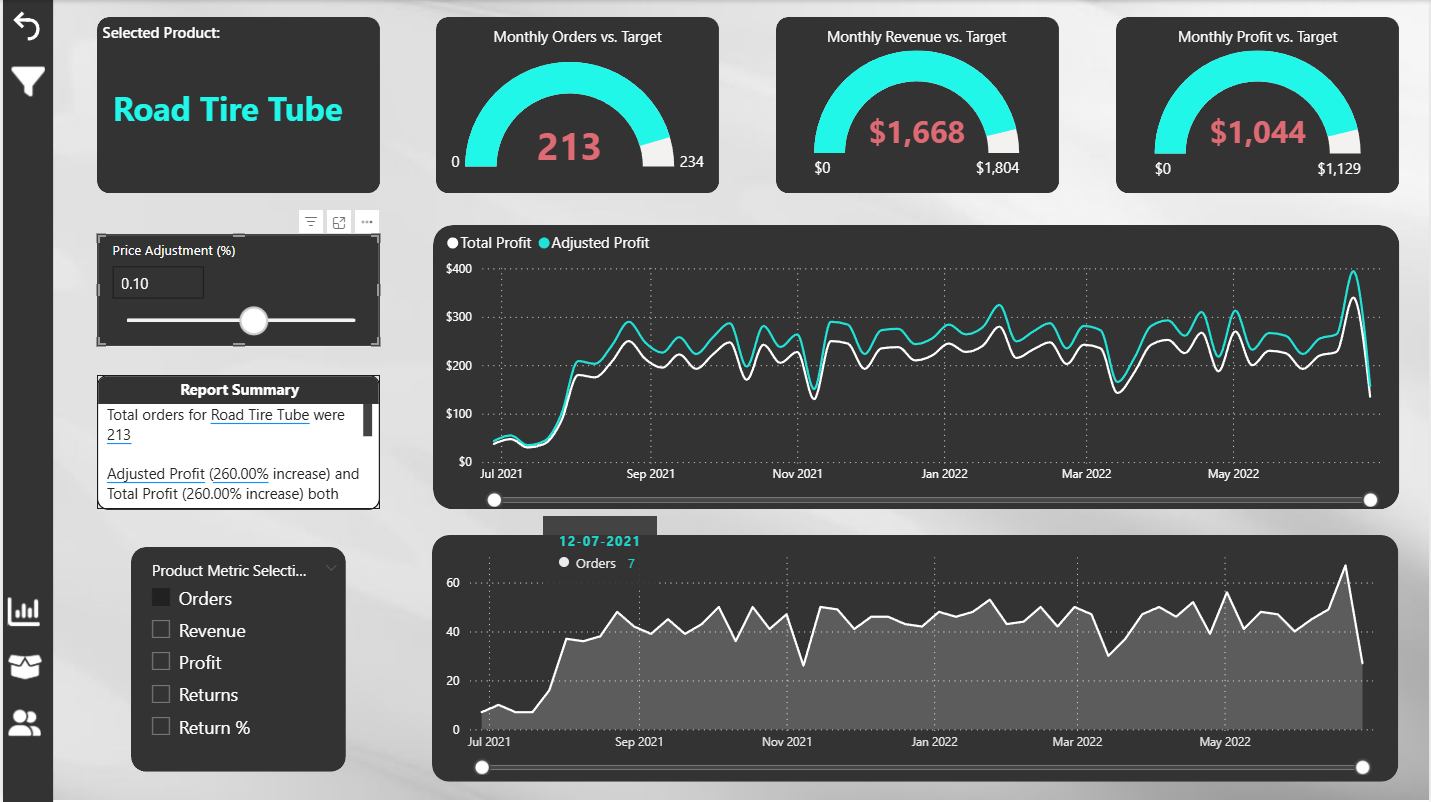

Layout of this report page (visuals, bound fields, positions):
{"tool":"powerbi","page":{"name":"Product Detail","canvas":[1280,720],"ordinal":1},"visuals":[{"type":"shape","box":[84.1,209.7,254.2,100.9],"z":0},{"type":"shape","box":[114.7,490.6,192.9,201.8],"z":2000},{"type":"shape","box":[384.8,480.7,867.5,221.6],"z":3000},{"type":"shape","box":[385.8,201.8,867.5,255.2],"z":4000},{"type":"shape","box":[694.1,14.8,254.2,158.3],"z":5000},{"type":"actionButton","box":[1,630.7,45.2,37.3],"z":5000,"group":"g1"},{"type":"shape","box":[389.1,14.8,254.2,158.3],"z":6000},{"type":"shape","box":[84.1,14.8,254.2,158.3],"z":7000},{"type":"shape","box":[999.1,14.8,254.2,158.3],"z":8000},{"type":"shape","box":[0,0,45,720],"z":9000},{"type":"gauge","title":"Monthly Orders vs. Target","fields":{"Y":["Measure Table.Total Orders"],"MaxValue":["Measure Table.Order Target"]},"box":[397.7,23.7,236.4,141.5],"z":10000},{"type":"gauge","title":"Monthly Revenue vs. Target","fields":{"Y":["Measure Table.Total Revenue"],"MaxValue":["Measure Table.Revenue Target"]},"box":[702.3,23,236.4,141],"z":11000},{"type":"gauge","title":"Monthly Profit vs. Target","fields":{"Y":["Measure Table.Total Profit"],"MaxValue":["Measure Table.Profit Target"]},"box":[1008,23.7,236.4,141.5],"z":12000},{"type":"lineChart","title":"Profit Trending","fields":{"Category":["Calendar Lookup.Date Hierarchy.Year","Calendar Lookup.Date Hierarchy.Start of Month","Calendar Lookup.Date Hierarchy.Start of Week","Calendar Lookup.Date Hierarchy.Date"],"Y":["Measure Table.Total Profit","Measure Table.Adjusted Profit"]},"box":[397.7,202.8,853.7,252.2],"z":13000},{"type":"areaChart","title":"Return Trending","fields":{"Y":["Measure Table.Total Orders"],"Category":["Calendar Lookup.Date Hierarchy.Year","Calendar Lookup.Date Hierarchy.Start of Month","Calendar Lookup.Date Hierarchy.Start of Week","Calendar Lookup.Date Hierarchy.Date"]},"box":[397.7,491.6,846.7,202.8],"z":14000},{"type":"card","fields":{"Values":["Min(Product Lookup.ProductName)"]},"box":[84.1,30.7,234.4,134.5],"z":15000},{"type":"textbox","box":[84.1,14.8,136.5,36.6],"z":16000},{"type":"actionButton","box":[3.3,5.6,35.6,35.6],"z":17000,"group":"g1"},{"type":"slicer","fields":{"Values":["Price Adjustment (%).Price Adjustment (%)"]},"box":[84.1,209.7,254.2,100.9],"z":17000},{"type":"actionButton","box":[3.4,53.2,38.4,39.6],"z":18000,"group":"g1"},{"type":"slicer","fields":{"Values":["Product Metric Selection.Product Metric Selection"]},"box":[125.6,502.5,182,179],"z":18000},{"type":"textbox","title":"Report Summary","box":[84.1,336.3,254.2,120.7],"z":19000},{"type":"actionButton","box":[0,530.5,45.2,37.3],"z":19500,"group":"g1"},{"type":"group","id":"g1","title":"navigation buttons","box":[0,5.6,46.4,662.4],"z":20000},{"type":"actionButton","box":[0.8,580.4,45.6,37.8],"z":20000,"group":"g1"}]}

Visuals, with their boxes in screenshot pixels (x1, y1, x2, y2):
shape: 92:230:371:341
shape: 126:538:338:760
shape: 422:528:1374:771
shape: 423:221:1375:502
shape: 762:16:1041:190
actionButton: 1:692:51:733
shape: 427:16:706:190
shape: 92:16:371:190
shape: 1096:16:1375:190
shape: 0:0:49:790
"Monthly Orders vs. Target" gauge: 436:26:696:181
"Monthly Revenue vs. Target" gauge: 771:25:1030:180
"Monthly Profit vs. Target" gauge: 1106:26:1366:181
"Profit Trending" lineChart: 436:223:1373:499
"Return Trending" areaChart: 436:539:1366:762
card - Min(Product Lookup.ProductName): 92:34:350:181
textbox: 92:16:242:56
actionButton: 4:6:43:45
slicer - Price Adjustment (%).Price Adjustment (%): 92:230:371:341
actionButton: 4:58:46:102
slicer - Product Metric Selection.Product Metric Selection: 138:551:338:748
"Report Summary" textbox: 92:369:371:502
actionButton: 0:582:50:623
"navigation buttons" group: 0:6:51:733
actionButton: 1:637:51:678
